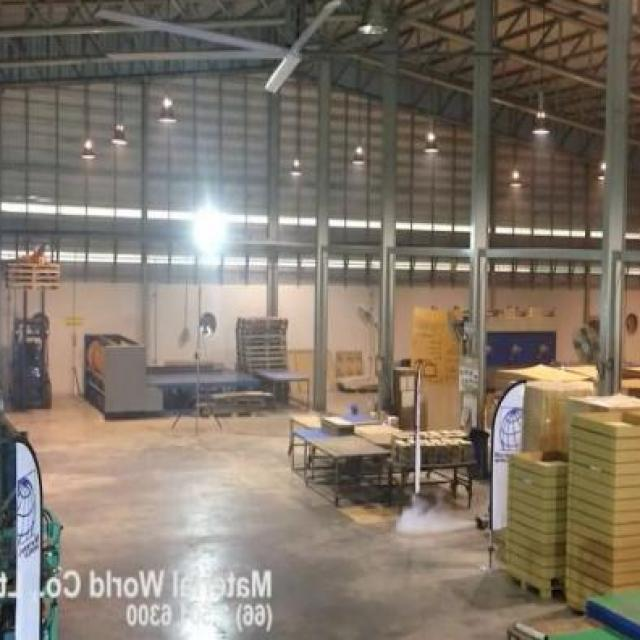fire: (391, 492, 456, 541)
